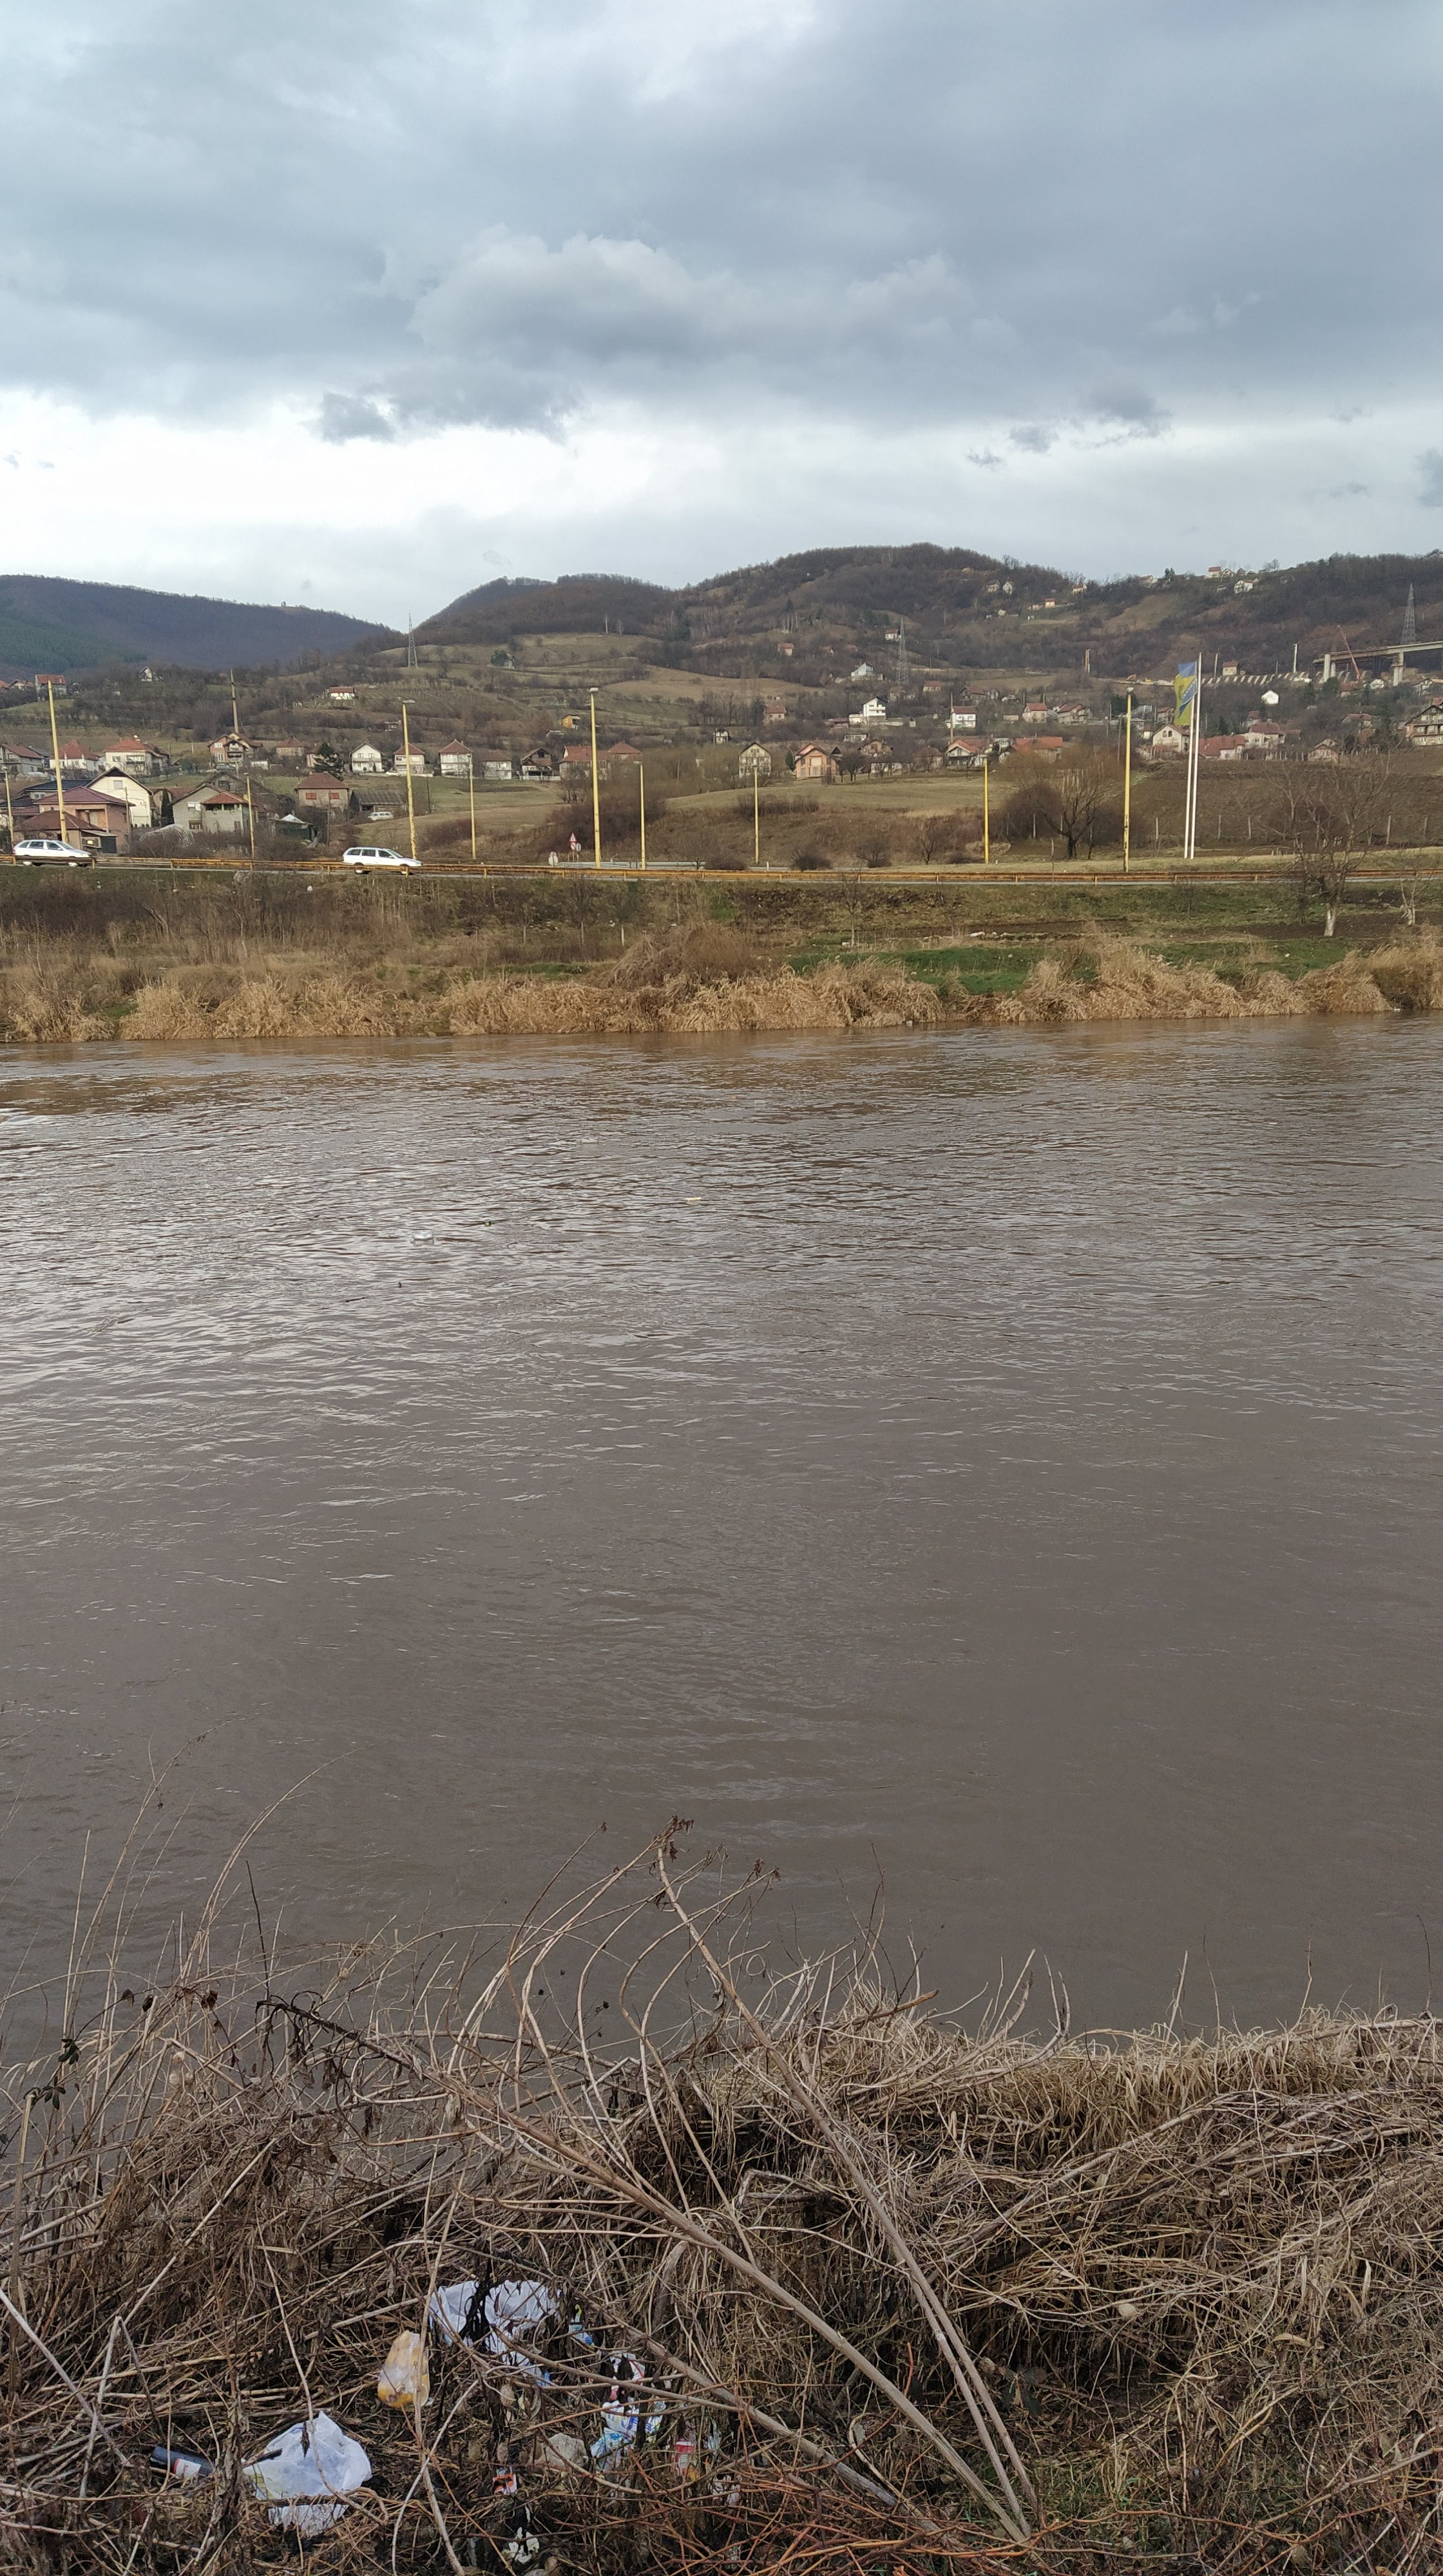Plastic Bottle: (409, 1230, 432, 1240), (754, 1099, 767, 1104), (685, 1196, 701, 1200), (907, 1021, 912, 1023), (1395, 1008, 1401, 1010)
